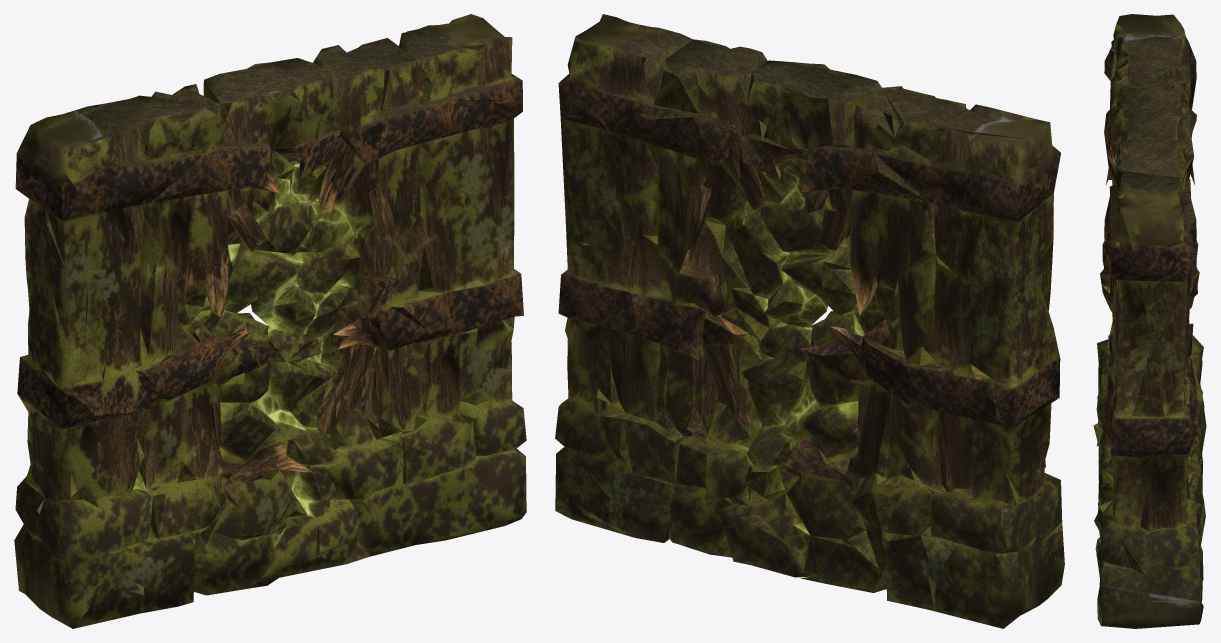
Rendered from prison-wall2.glb.
3 views of the same model, side by side, from view 1: azimuth 30°, elevation 25°; view 2: azimuth 150°, elevation 25°; view 3: azimuth 270°, elevation 25° (orthographic). The views are drawn at different scales.
Bounding box in the file's own units: 2 × 1.92 × 0.4659.
Materials: 1 (1 with a texture image).
